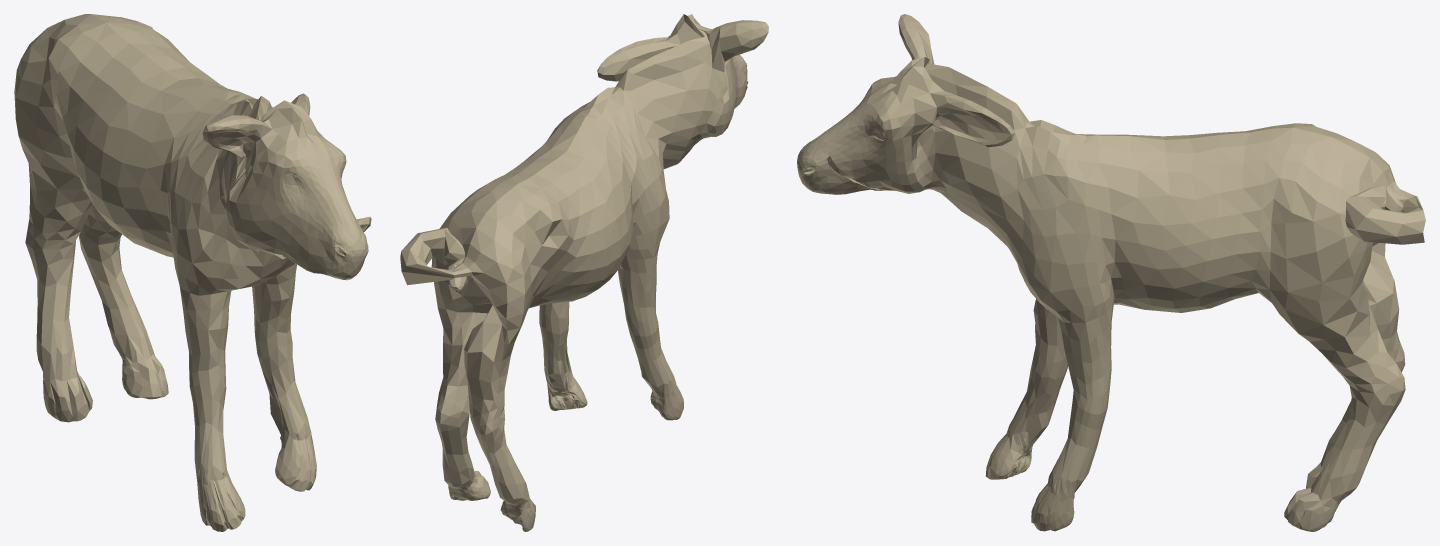
3 renders of one model, left to right at view 1: azimuth 30°, elevation 25°; view 2: azimuth 150°, elevation 25°; view 3: azimuth 270°, elevation 25°, orthographic. The views are drawn at different scales.
Visible parts, largest first — view 1: world; view 2: world; view 3: world.
Boxes of the visible parts, left/top/right/bottom form: world: left=14, top=14, right=371, bottom=531; world: left=400, top=14, right=768, bottom=531; world: left=797, top=14, right=1425, bottom=531.
Size of the model in its own units: 0.5951 by 1.39 by 1.76.
